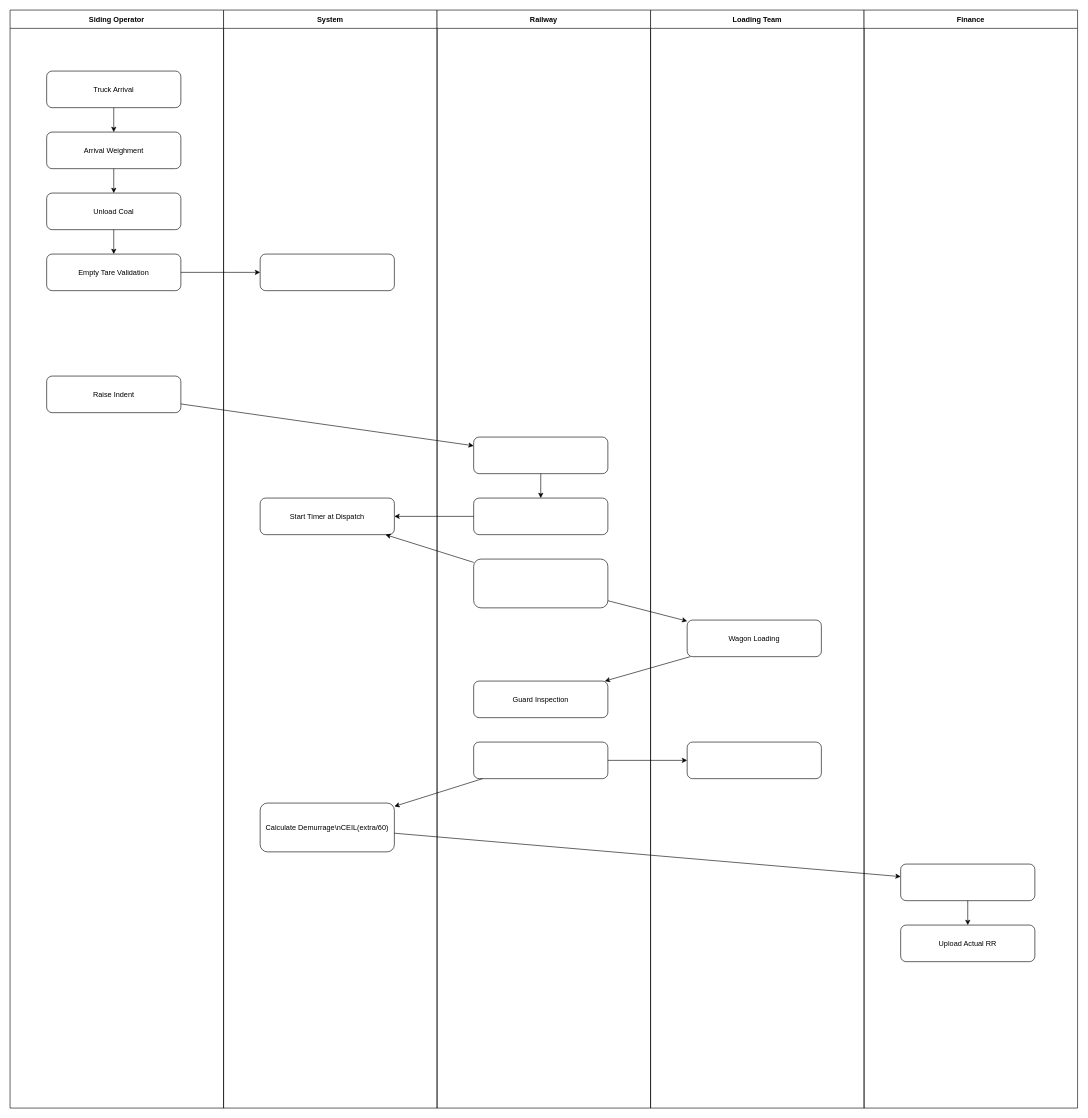
Image size: 1088x1118. Some labels were removed from this diagram. The centre of each missing label's shape, as x and y in pixels:
"Dispatch to Loading Line\n(Timer Starts)" goes at point (540, 583).
"Generate RR Prediction" goes at point (967, 882).
"In-Motion Weighment" goes at point (540, 760).
"Rake Arrives" goes at point (540, 455).
"Reload if Failed" goes at point (754, 760).
"TXR Inspection" goes at point (540, 516).
"Update Stock Ledger" goes at point (327, 272).
